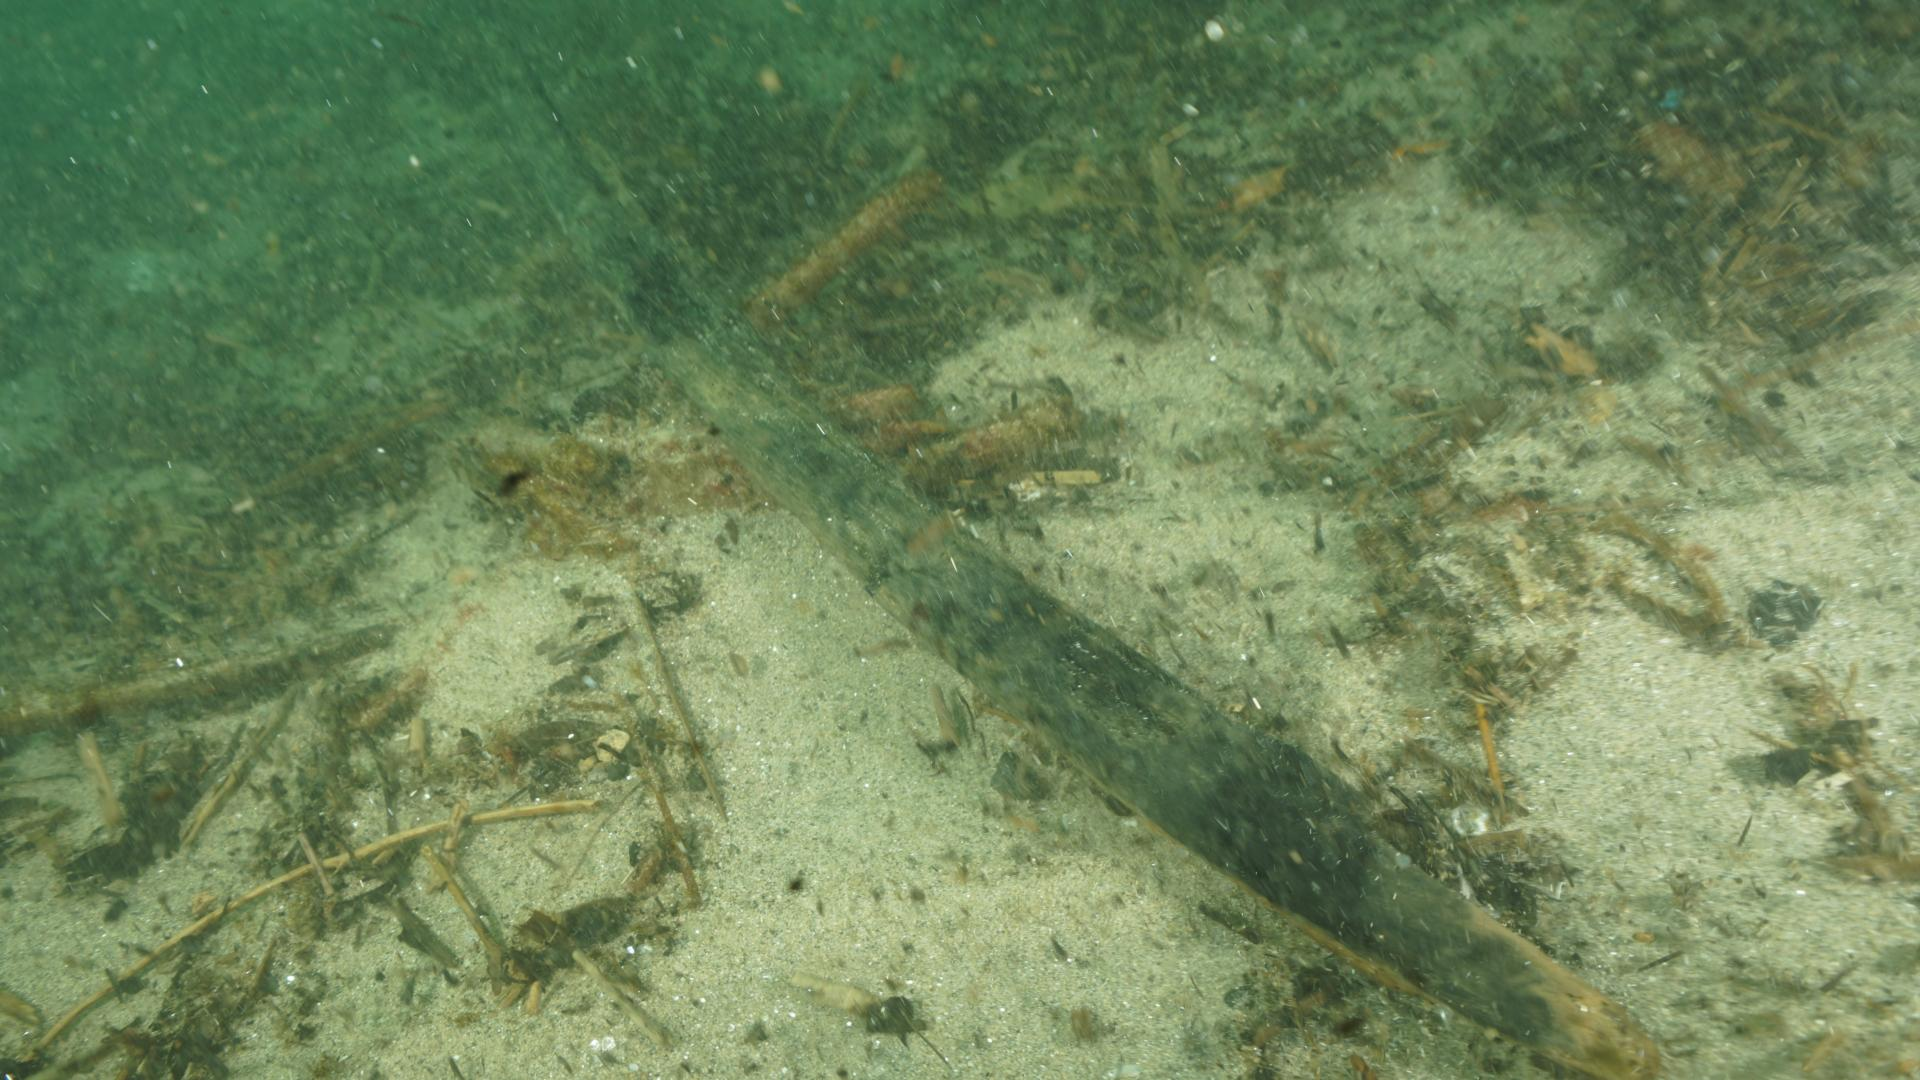wood: (450, 0, 1669, 1080)
